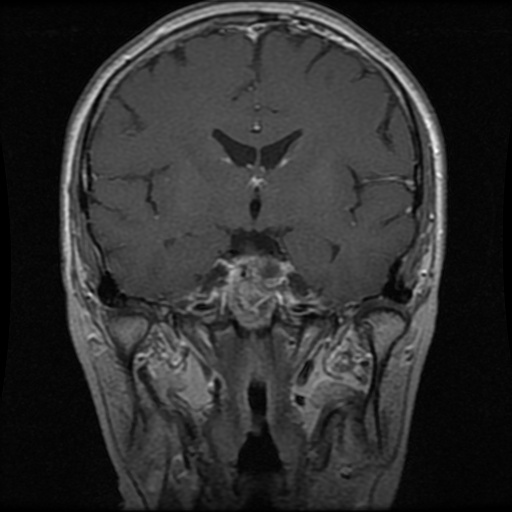pituitary: (227, 253, 285, 329)
